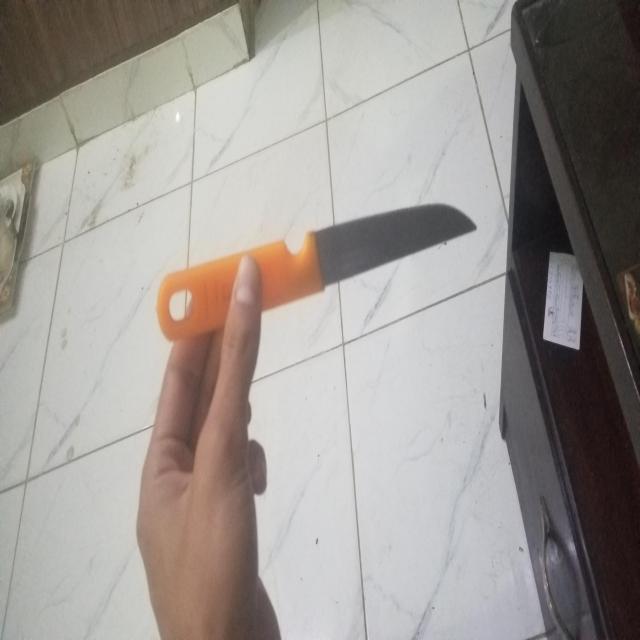faca: (156, 202, 478, 340)
